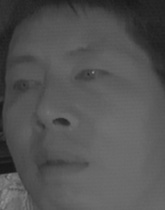eye: (73, 63, 110, 88), (10, 74, 42, 94)
mouth: (31, 149, 93, 184)
